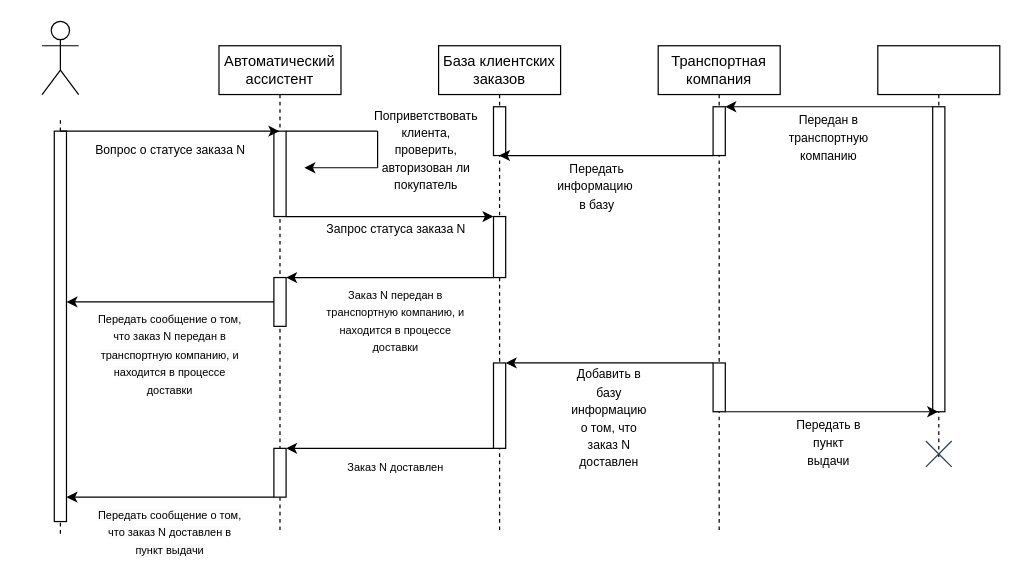
This 1021x580 diagram has some shape labels left out. The box of each missing label's shape, as (x1, y1, x2, y2) in pixels:
Заказ N: (877, 45, 1000, 461)
Покупатель: (41, 20, 79, 95)
